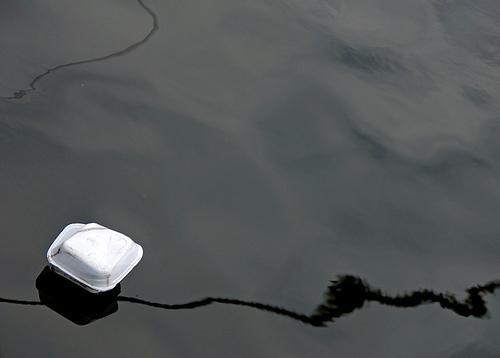litter: (46, 222, 145, 295)
